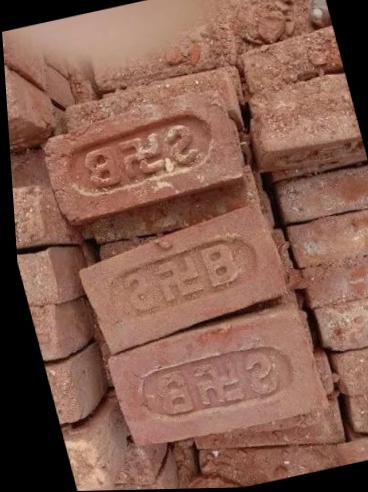brick: (102, 305, 331, 455), (70, 203, 296, 353), (36, 93, 250, 224), (250, 73, 362, 154), (239, 29, 346, 93), (276, 162, 368, 226), (288, 204, 368, 268), (300, 246, 368, 312), (317, 289, 368, 355), (341, 337, 368, 397), (350, 382, 368, 441)
